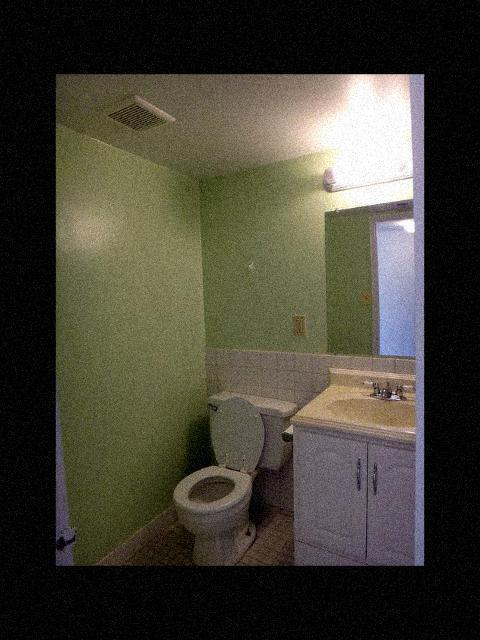Lavamanos: (311, 374, 424, 442)
